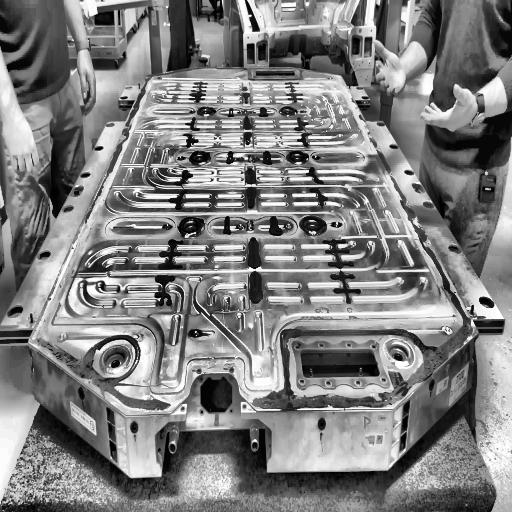b_casing: (1, 62, 505, 420)
